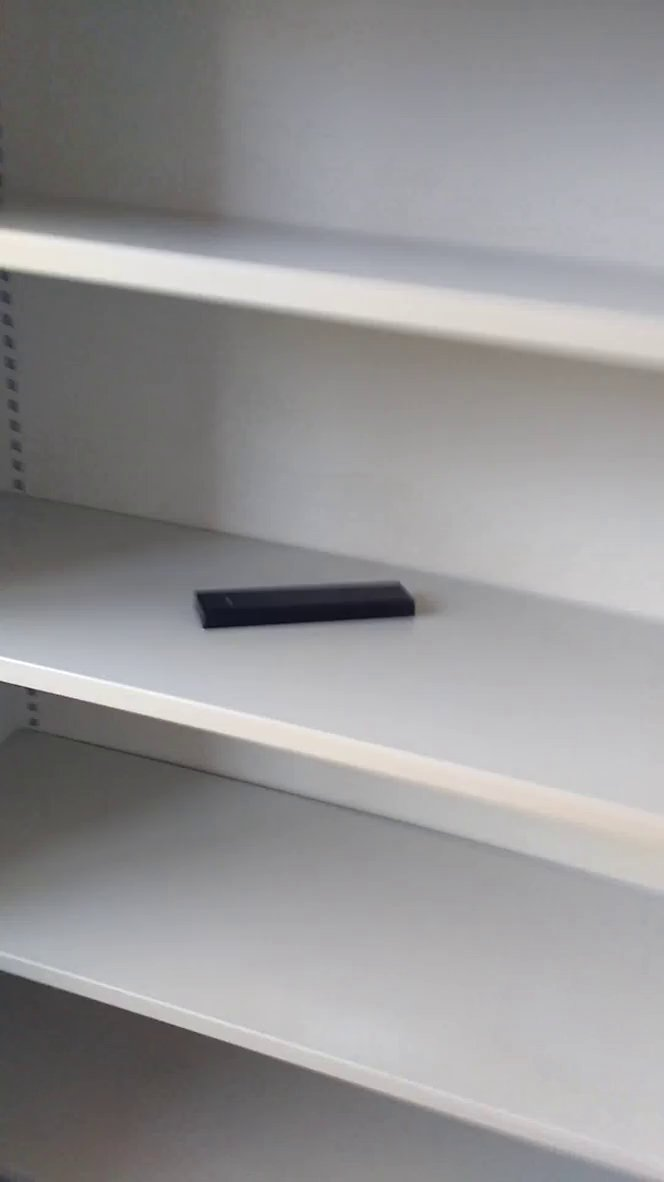remote: (177, 564, 434, 657)
